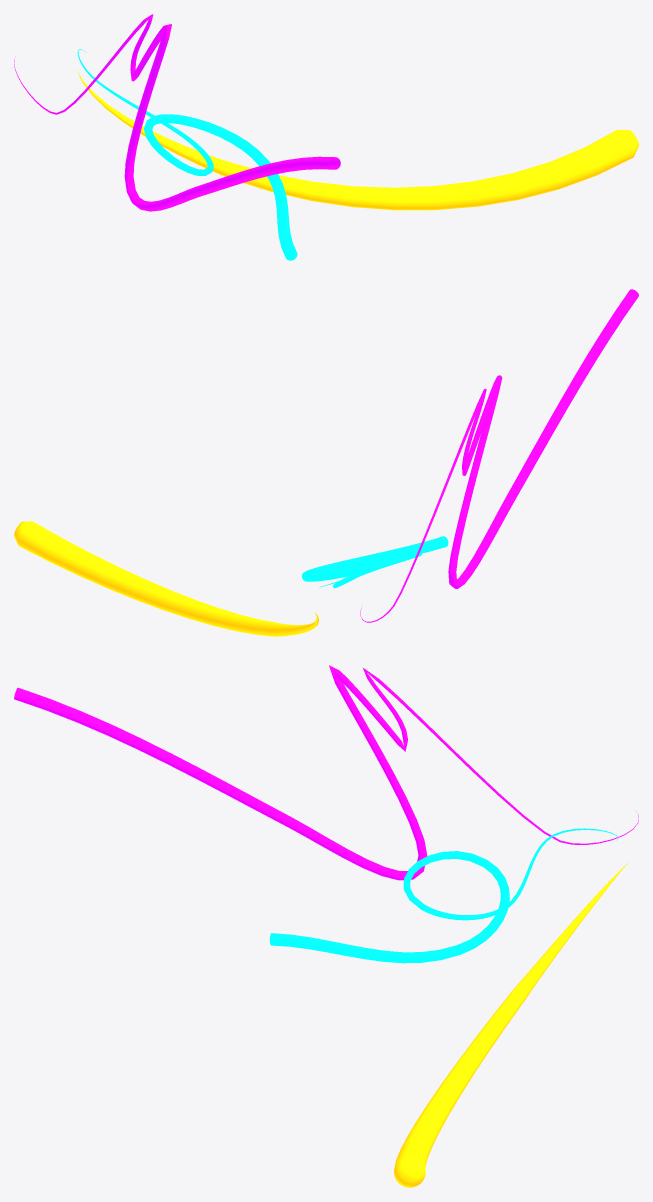
Rendered from names.glb.
The picture shows the model from 3 angles, top to bottom: view 1: azimuth 30°, elevation 25°; view 2: azimuth 150°, elevation 25°; view 3: azimuth 270°, elevation 25°; orthographic projection. The views are drawn at different scales.
Parts seen in each view (by area): view 1: curve2; view 2: curve2; view 3: curve2.
Part boxes in pixels (x1,y1,x2,y2): curve2: [14, 14, 638, 260]; curve2: [14, 289, 638, 636]; curve2: [14, 665, 638, 1187].
Bounding box in the file's own units: 32.26 × 18.43 × 34.67.
